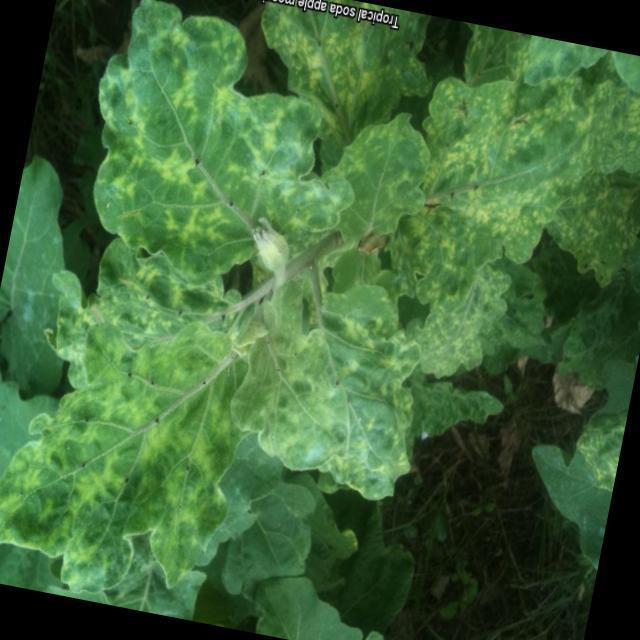Mosaic Virus: (76, 0, 320, 291), (0, 309, 242, 599), (415, 23, 640, 273), (232, 293, 421, 500), (300, 108, 428, 247)
